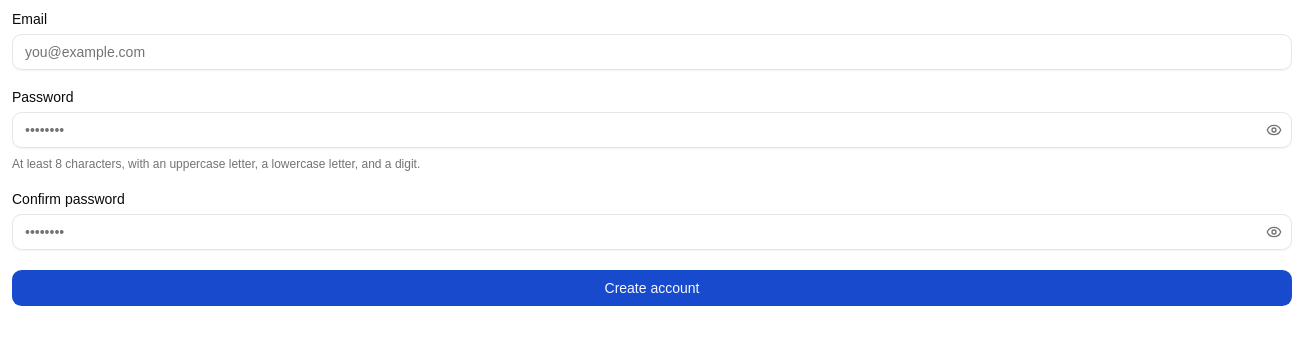
Scenario: RegisterForm › rejects mismatched password confirmation
The image size is (1304, 351).
Type "player@example.com" into the field labelled "Email" at (652, 52), box [12,34,1292,70]
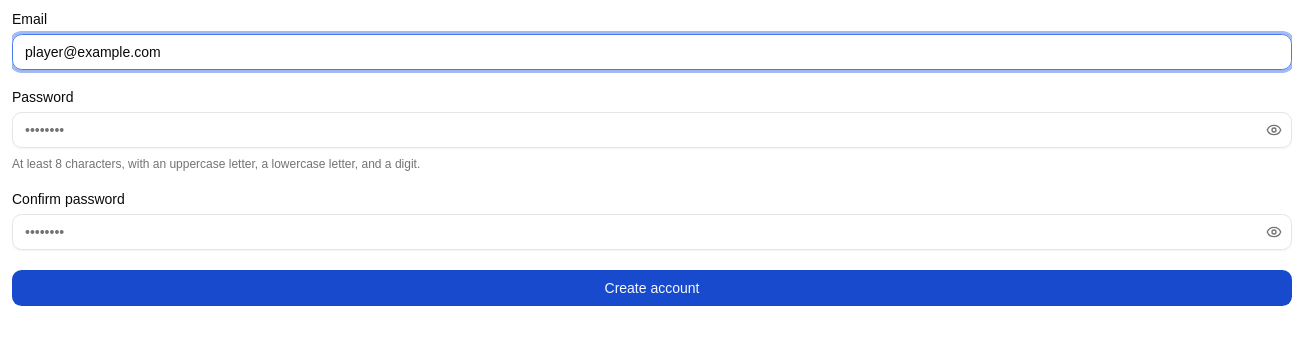
Type "Passw0rd123" into the password field labelled "Password" at (652, 130), box [12,112,1292,148]
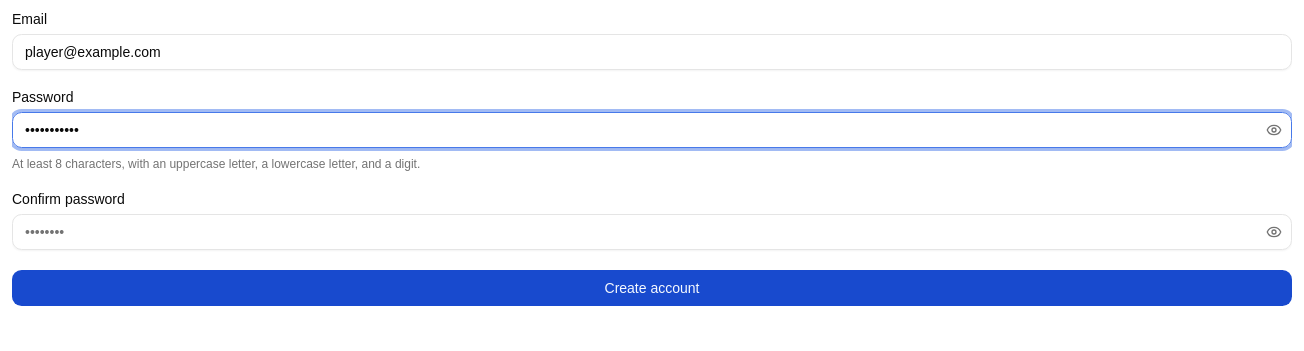
Type "Different123" into the password field labelled "Confirm password" at (652, 232), box [12,214,1292,250]
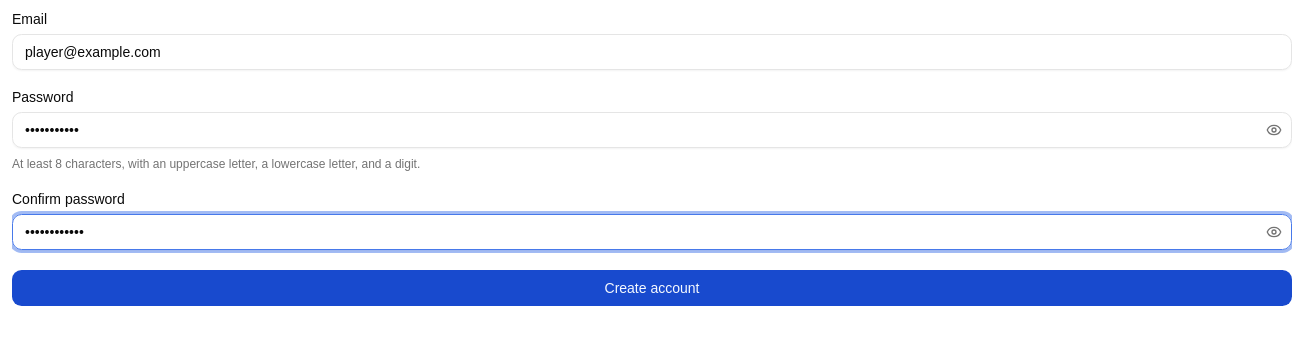
Click the button "Create account" at (652, 288), box [12,270,1292,306]
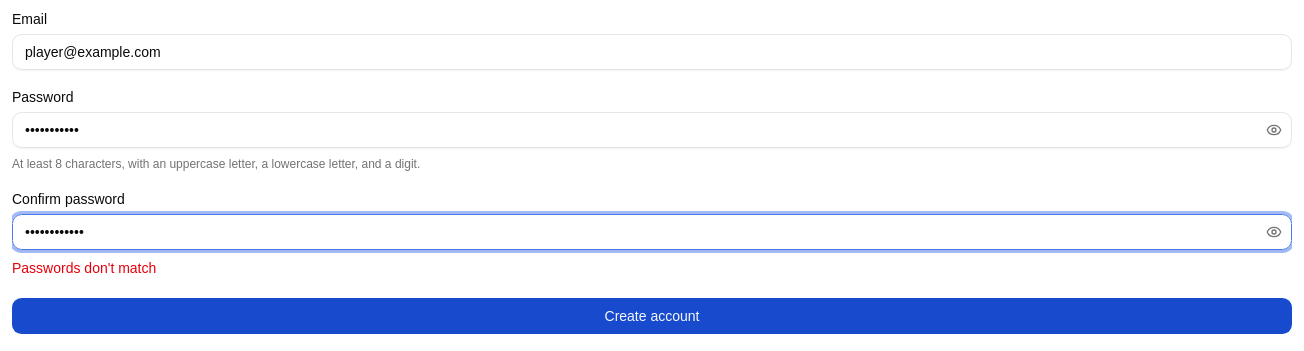
expect the text "Passwords don't match" is shown: met, box [12,260,156,276]
